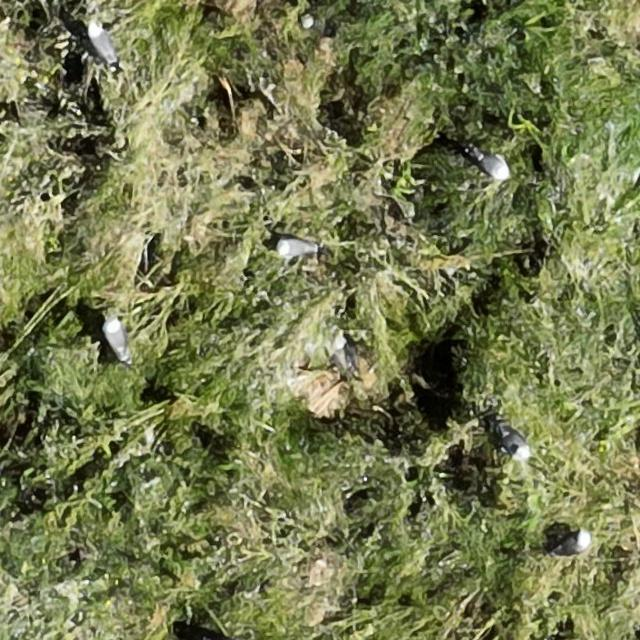umineko: (335, 334, 361, 378), (90, 26, 116, 64), (106, 319, 129, 360), (476, 153, 509, 180), (501, 429, 529, 459), (556, 533, 590, 555), (278, 238, 314, 256)
